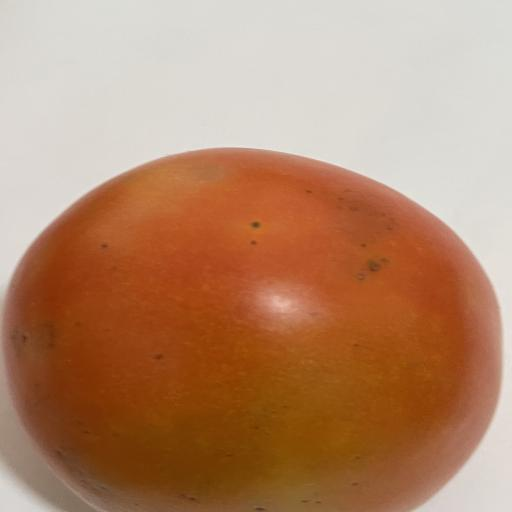ripe: (3, 148, 501, 512)
